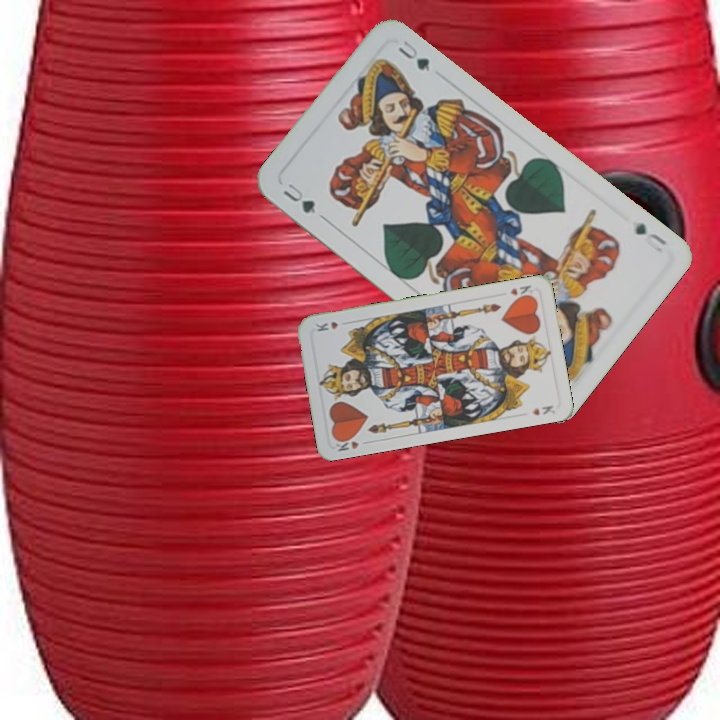GU: (278, 179, 321, 217), (631, 219, 670, 248)
HK: (330, 432, 372, 454), (506, 281, 536, 302)
